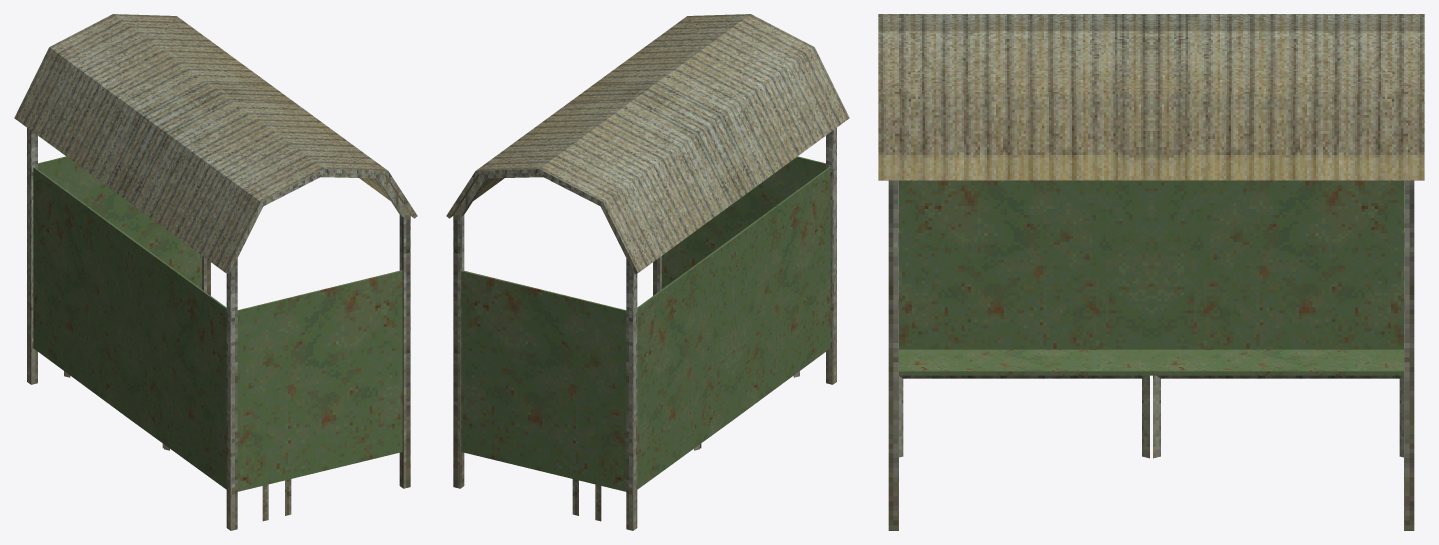
Rendered from busstop_clean_bench_round_roof.glb.
3 renders of one model, left to right at view 1: azimuth 30°, elevation 25°; view 2: azimuth 150°, elevation 25°; view 3: azimuth 270°, elevation 25°, orthographic. The views are drawn at different scales.
Parts seen in each view (by area): view 1: busstop_clean_bench_round_roof; view 2: busstop_clean_bench_round_roof; view 3: busstop_clean_bench_round_roof.
Boxes of the visible parts, <box> form: busstop_clean_bench_round_roof: <box>14,14,417,530</box>; busstop_clean_bench_round_roof: <box>446,14,849,530</box>; busstop_clean_bench_round_roof: <box>878,14,1424,530</box>.
Size of the model in its own units: 2.22 by 3.8 by 4.24.
1 material, 1 textured.
